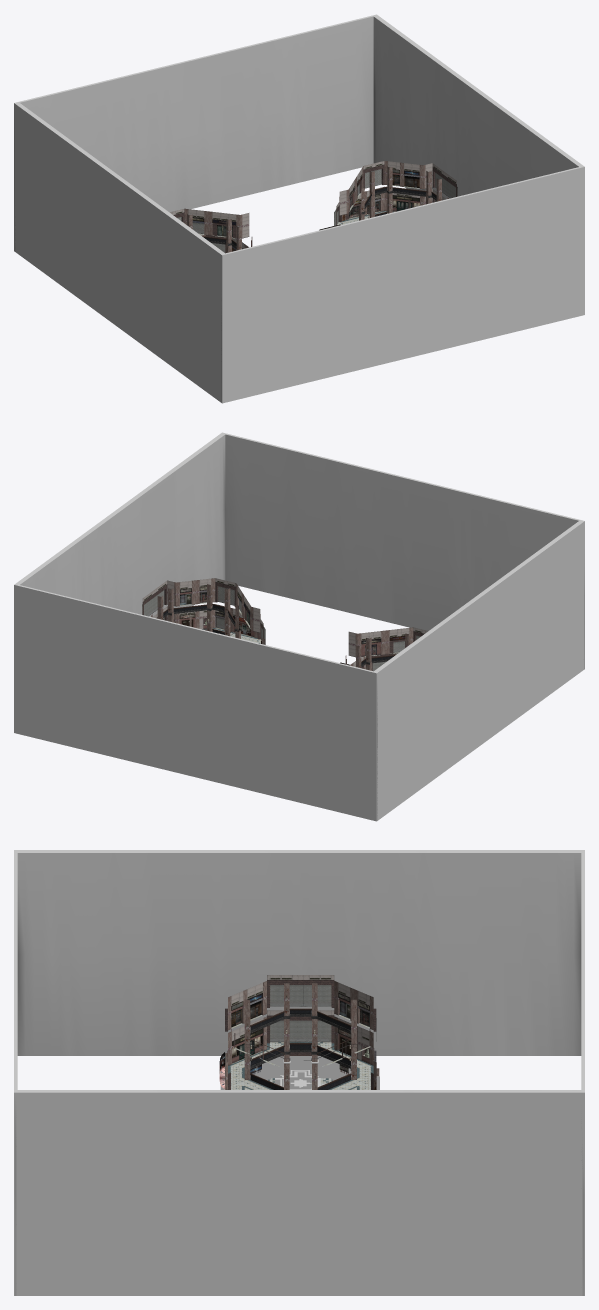
The model's file is stage.glb.
3 views of the same model, one above another, from view 1: azimuth 30°, elevation 25°; view 2: azimuth 150°, elevation 25°; view 3: azimuth 270°, elevation 25° (orthographic). The views are drawn at different scales.
Visible parts, largest first — view 1: concrete_wall_s, concrete_wall_n, concrete_wall_w, concrete_wall_e, FrontSide_6.001_noplayer_noeye_nocamera, FrontSide_6_noplayer_noeye_nocamera, FrontSide_5.001_noplayer_noeye_nocamera, FrontSide_4.001_noplayer_noeye_nocamera; view 2: concrete_wall_n, concrete_wall_s, concrete_wall_w, concrete_wall_e, FrontSide_6.001_noplayer_noeye_nocamera, FrontSide_6_noplayer_noeye_nocamera, FrontSide_5.001_noplayer_noeye_nocamera, FrontSide_4.001_noplayer_noeye_nocamera, FrontSide_5_noplayer_noeye_nocamera; view 3: concrete_wall_e, concrete_wall_w, FrontSide_6_noplayer_noeye_nocamera, FrontSide_5_noplayer_noeye_nocamera, FrontSide_4_noplayer_noeye_nocamera, FrontSide_10_noplayer_noeye_nocamera, concrete_wall_n, concrete_wall_s, concrete_mall_001_nodraw, FrontSide_2_noplayer_noeye_nocamera.
Part boxes in pixels (x1,y1,x2,y2): concrete_wall_s: (221, 166, 584, 403); concrete_wall_n: (14, 14, 376, 251); concrete_wall_w: (15, 103, 224, 402); concrete_wall_e: (373, 15, 583, 199); FrontSide_6.001_noplayer_noeye_nocamera: (336, 161, 456, 224); FrontSide_6_noplayer_noeye_nocamera: (170, 208, 252, 252); FrontSide_5.001_noplayer_noeye_nocamera: (336, 164, 456, 225); FrontSide_4.001_noplayer_noeye_nocamera: (334, 169, 457, 225); concrete_wall_n: (14, 584, 377, 821); concrete_wall_s: (222, 432, 584, 669); concrete_wall_w: (374, 520, 583, 820); concrete_wall_e: (15, 433, 225, 616); FrontSide_6.001_noplayer_noeye_nocamera: (142, 578, 265, 644); FrontSide_6_noplayer_noeye_nocamera: (345, 627, 428, 670); FrontSide_5.001_noplayer_noeye_nocamera: (142, 582, 263, 639); FrontSide_4.001_noplayer_noeye_nocamera: (142, 586, 265, 644); FrontSide_5_noplayer_noeye_nocamera: (345, 631, 424, 670); concrete_wall_e: (16, 1090, 582, 1295); concrete_wall_w: (16, 850, 582, 1055); FrontSide_6_noplayer_noeye_nocamera: (225, 975, 379, 1089); FrontSide_5_noplayer_noeye_nocamera: (225, 980, 376, 1089); FrontSide_4_noplayer_noeye_nocamera: (219, 985, 376, 1088); FrontSide_10_noplayer_noeye_nocamera: (228, 1015, 373, 1089); concrete_wall_n: (581, 850, 584, 1295); concrete_wall_s: (14, 850, 17, 1295); concrete_mall_001_nodraw: (271, 1056, 330, 1078); FrontSide_2_noplayer_noeye_nocamera: (231, 992, 376, 1078).
Size of the model in its own units: 82 by 32.1 by 81.5.
Materials: 24 (24 with a texture image).
